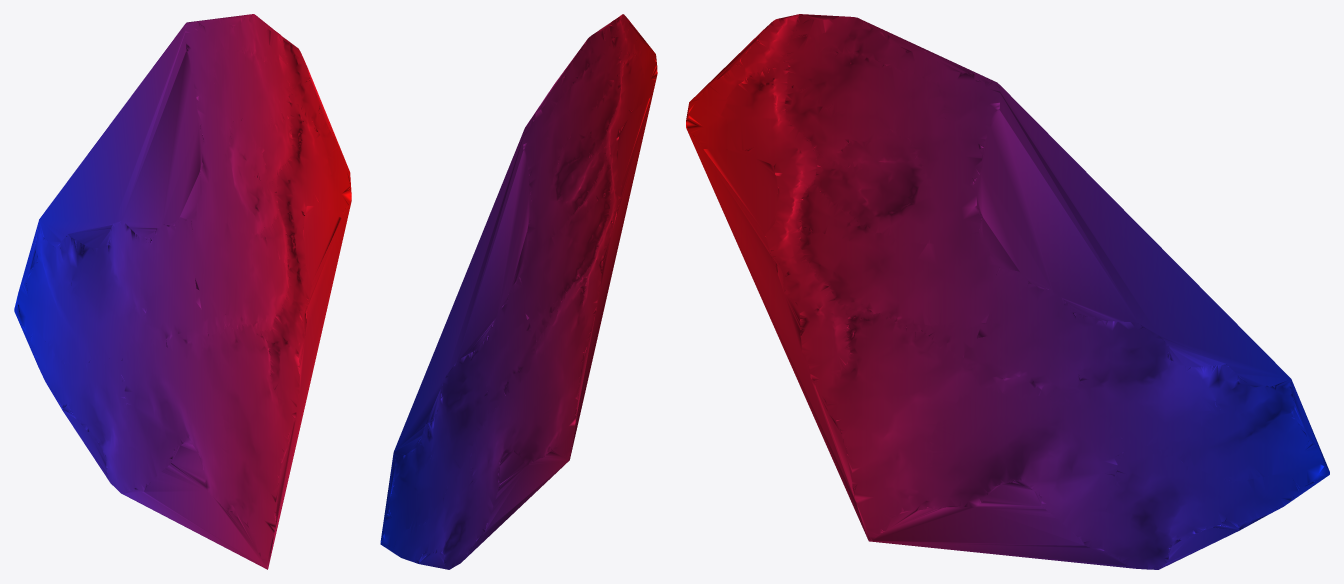
File: ms2_s1z1_notree.gltf.gltf
3 renders of one model, left to right at view 1: azimuth 30°, elevation 25°; view 2: azimuth 150°, elevation 25°; view 3: azimuth 270°, elevation 25°, orthographic. The views are drawn at different scales.
Bounding box in the file's own units: 172 × 3182 × 3410.
1 material, 1 textured.
